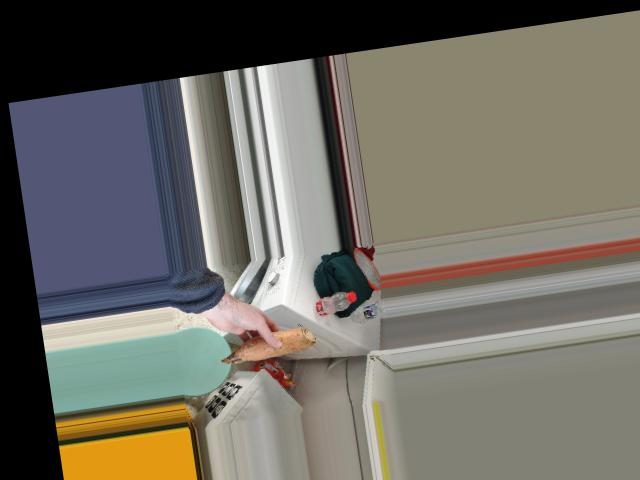sweet_potato: (215, 318, 323, 372)
